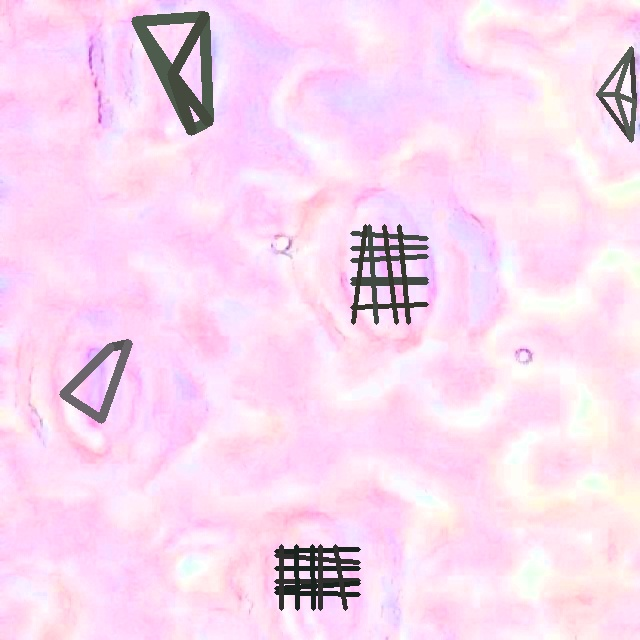close: (275, 544, 360, 609)
open: (131, 12, 212, 135), (351, 224, 428, 324), (59, 343, 132, 423), (596, 46, 635, 141)
